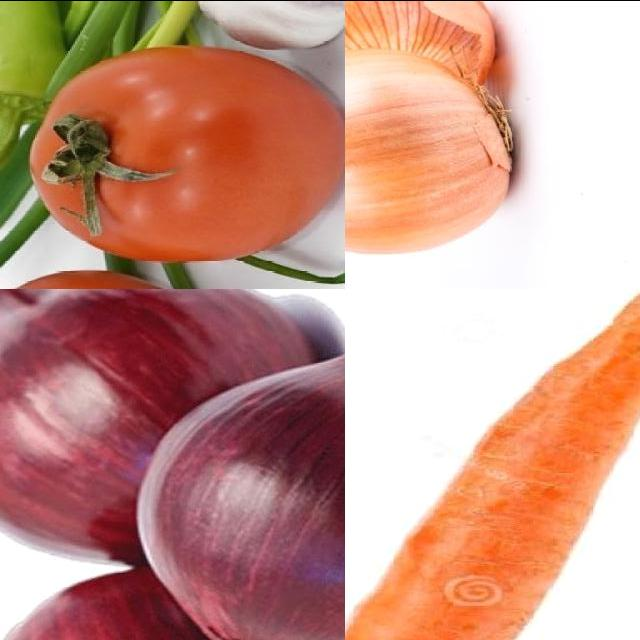carrot: (346, 289, 640, 640)
garlic: (137, 1, 346, 51)
onion: (1, 289, 326, 569), (135, 289, 346, 640), (346, 47, 516, 255), (1, 569, 346, 640)
tomato: (29, 49, 346, 264)
